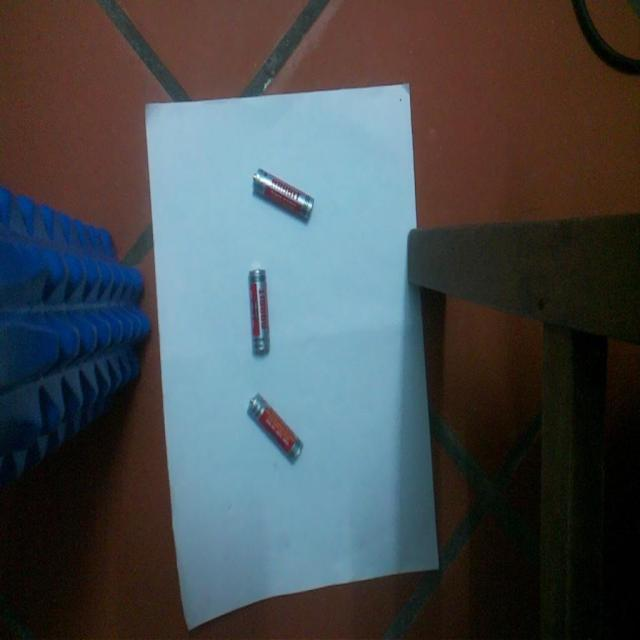AA: (246, 393, 304, 464), (252, 168, 315, 220), (248, 269, 271, 355)
